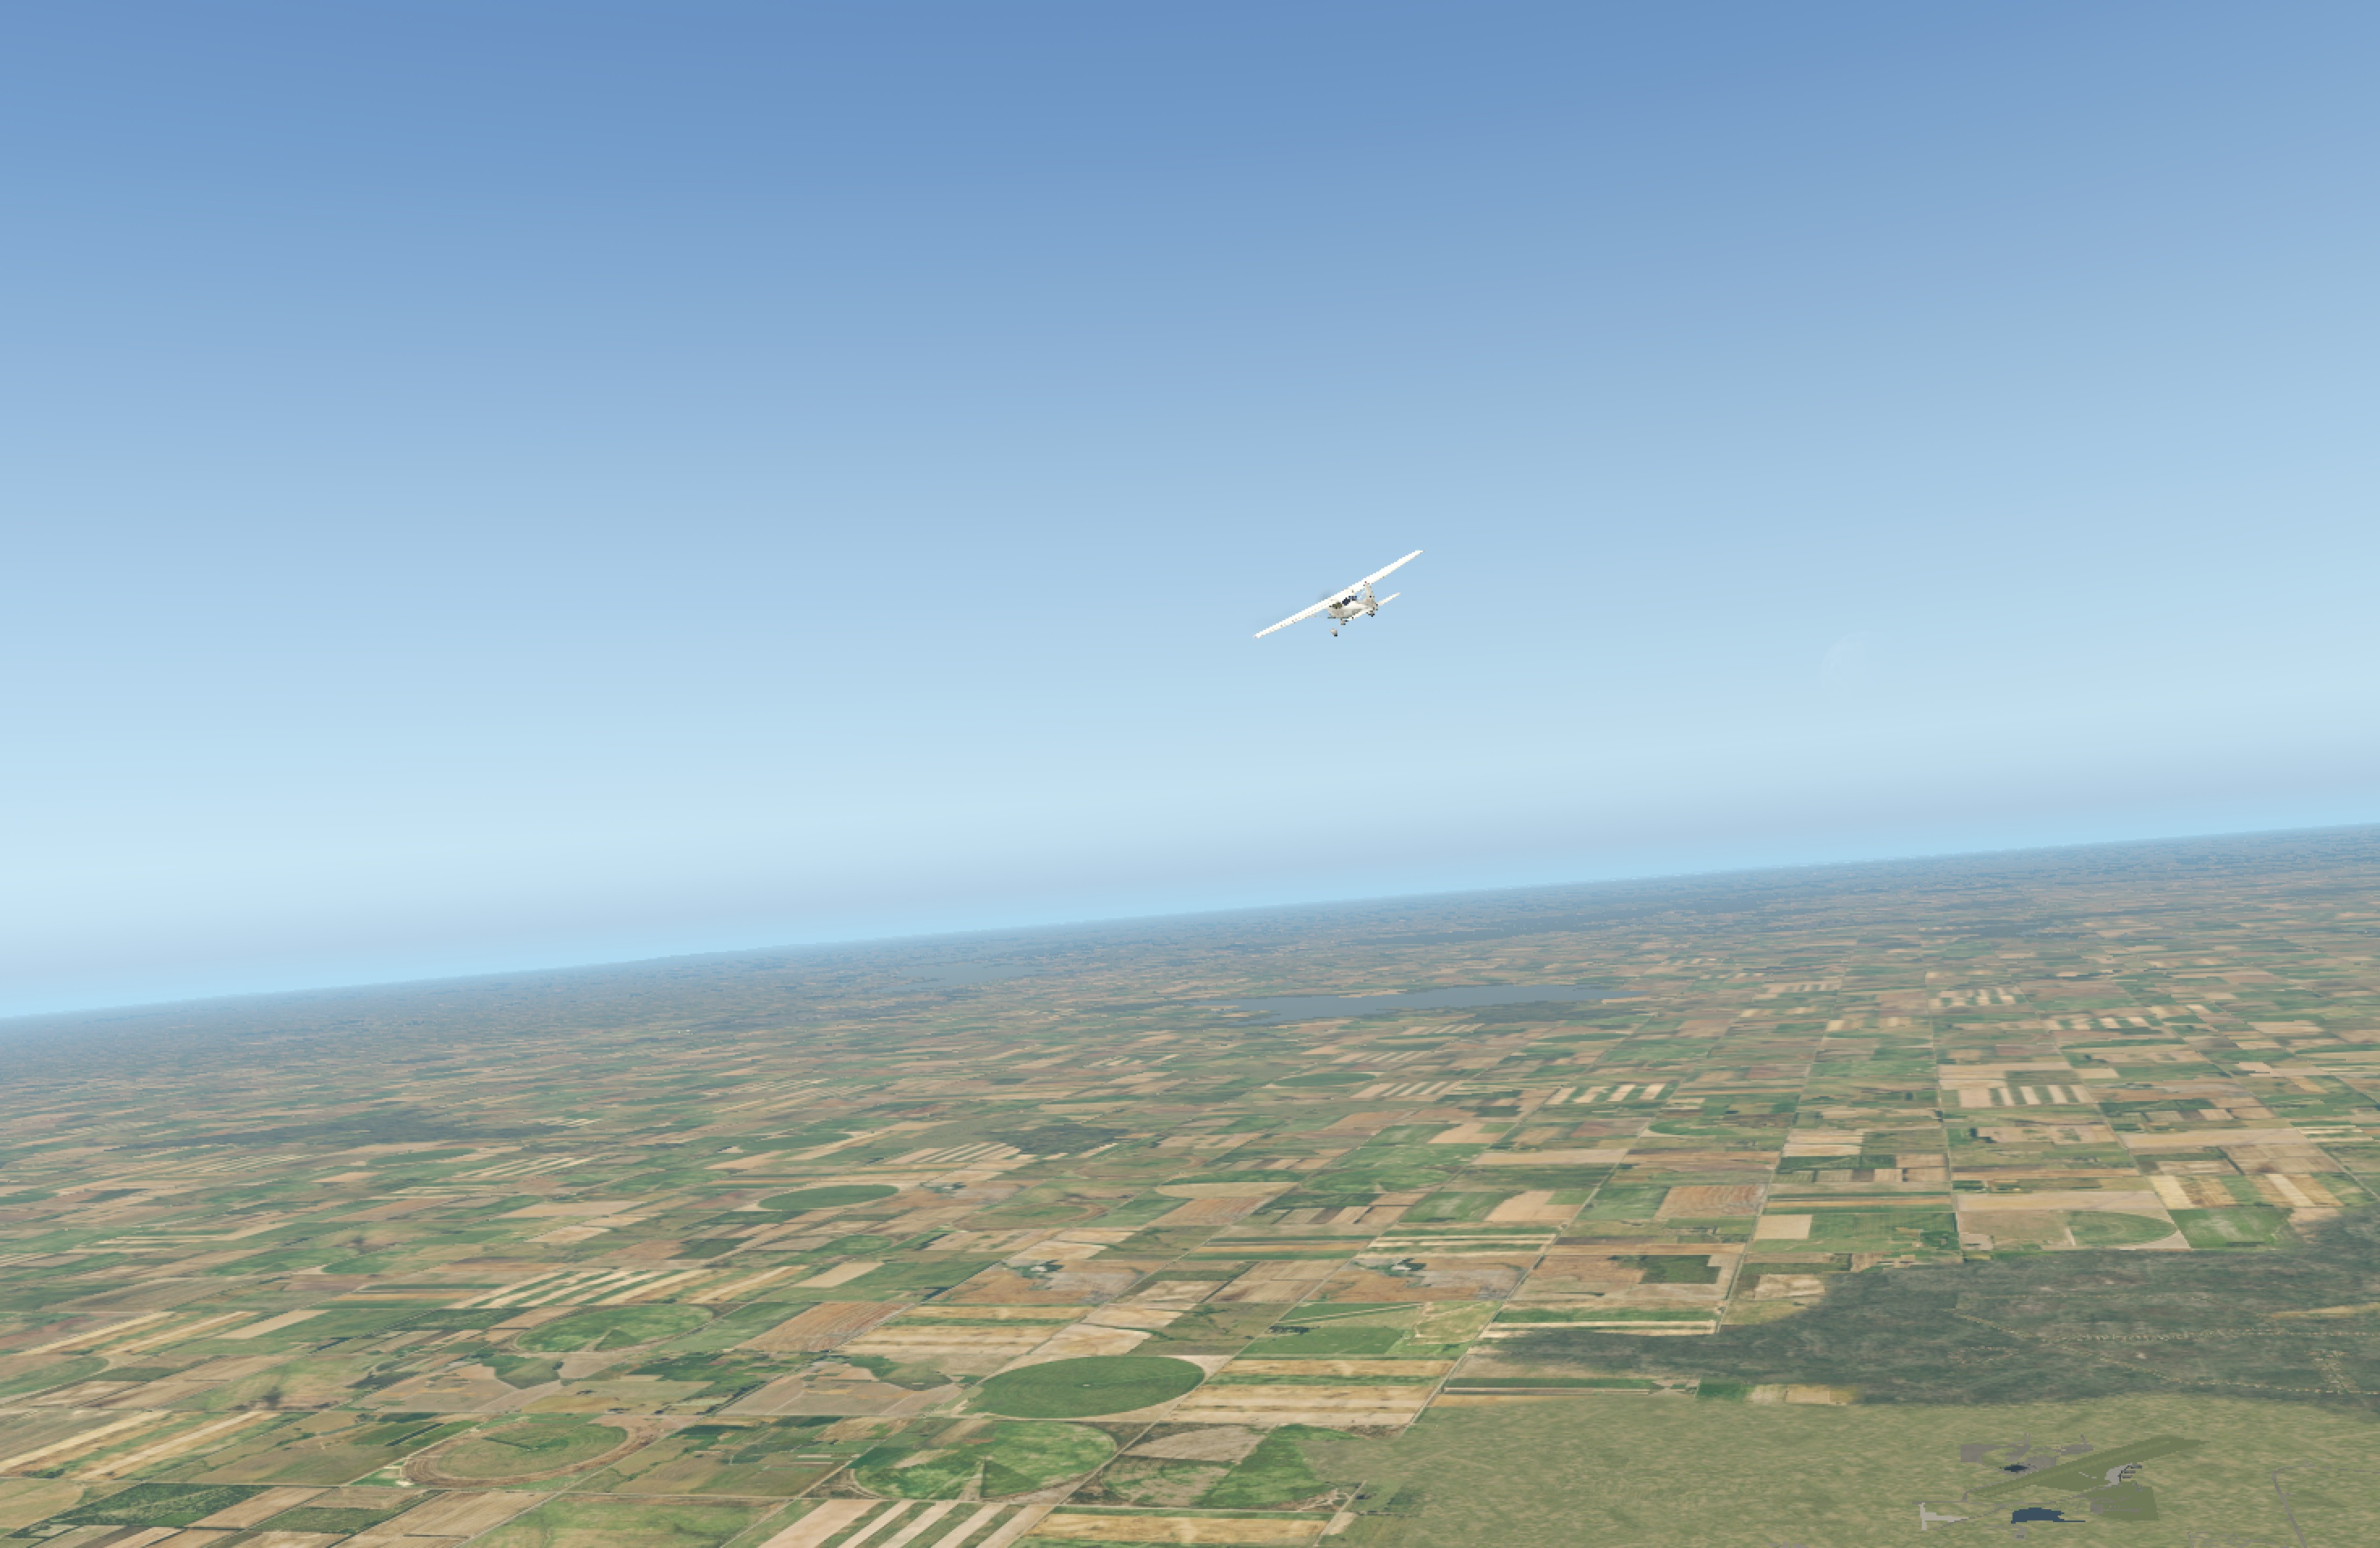aircraft: (1273, 578, 1412, 630)
